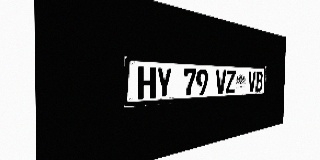7: (183, 68, 196, 96)
9: (196, 69, 208, 95)
B: (256, 71, 263, 91)
H: (138, 66, 156, 99)
V: (216, 70, 226, 94), (248, 71, 256, 92)
Y: (156, 67, 172, 98)
Z: (226, 70, 235, 93)
